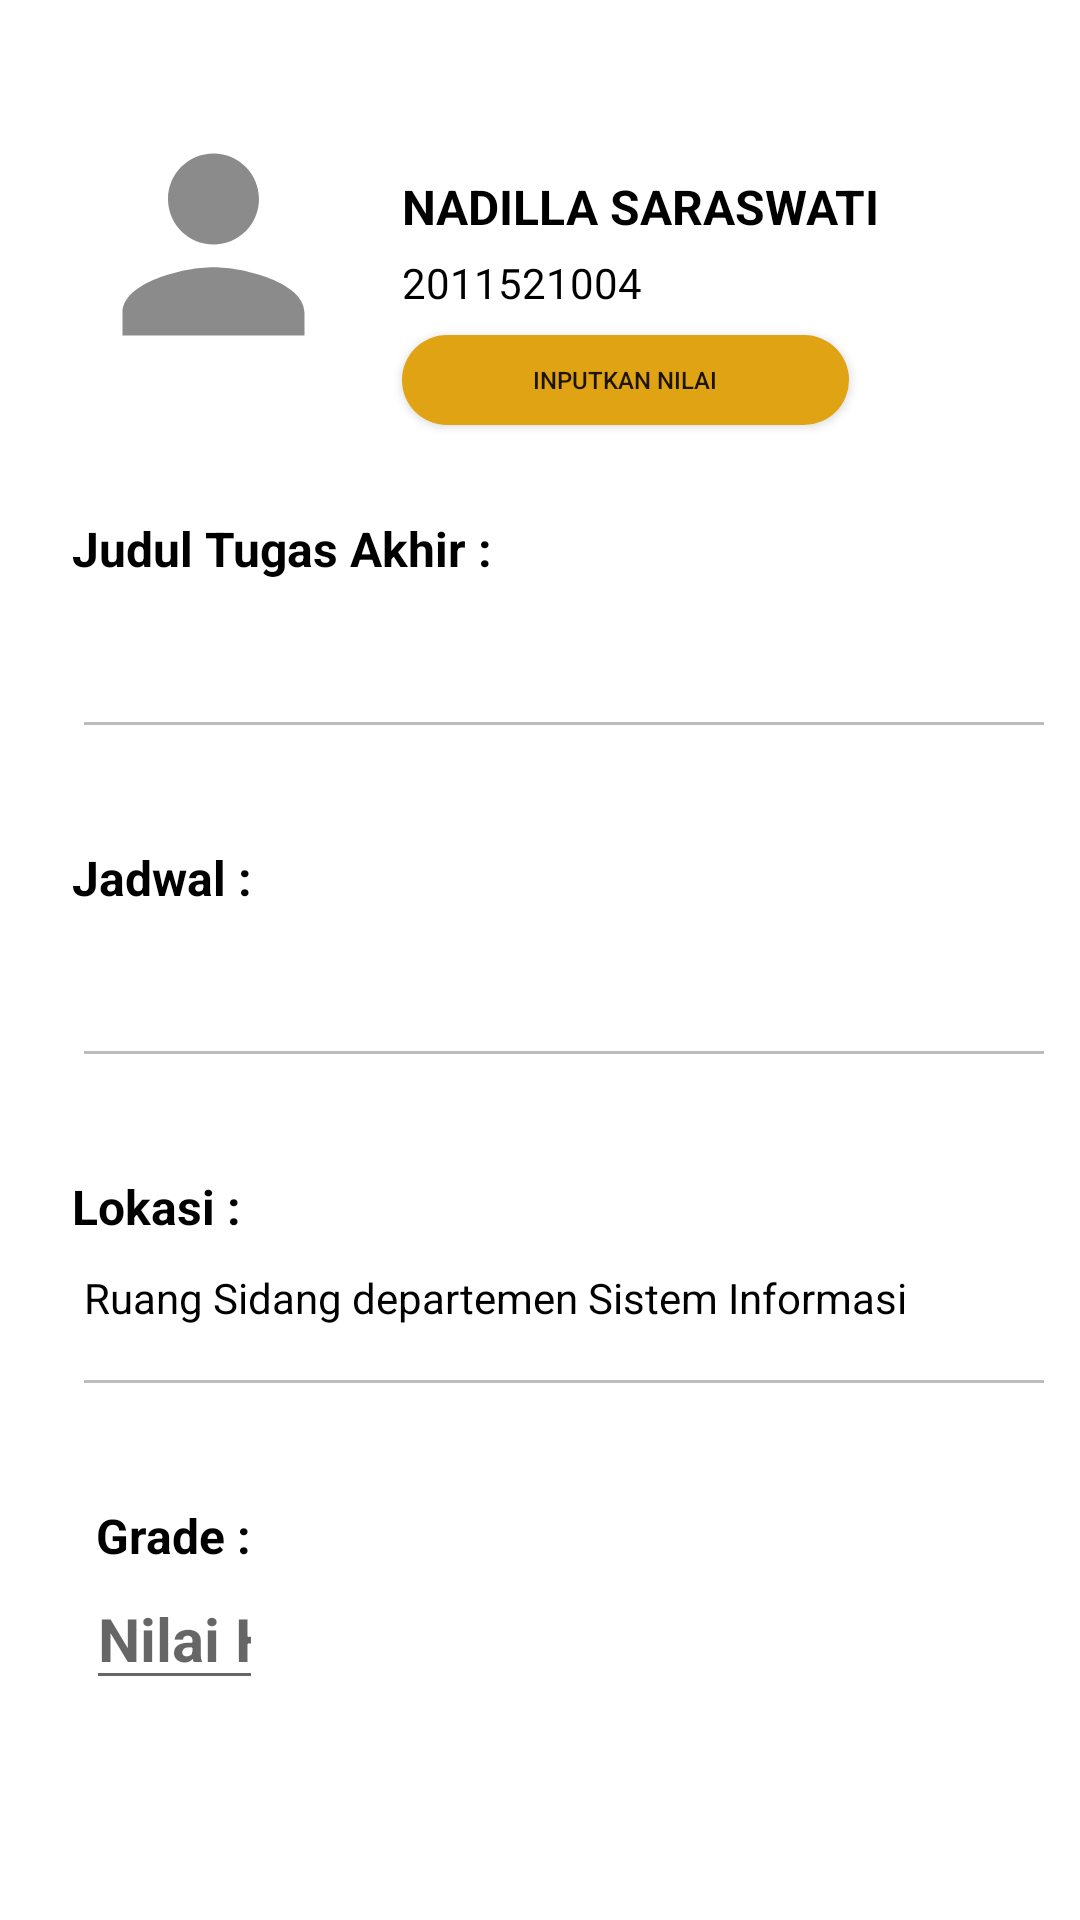

Screen size 1080px×1920px. Icon name, then its box in pixels as (x1, y1, x2, y2):
person: (122, 153, 305, 336)
